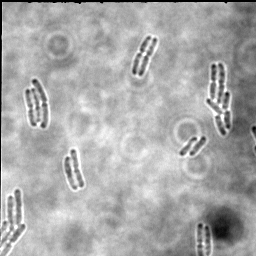Dividing: (31, 78, 51, 130), (136, 36, 160, 78), (131, 34, 152, 76), (69, 148, 86, 189), (63, 155, 80, 192), (22, 88, 37, 129), (30, 87, 43, 125), (195, 221, 205, 255)
Microcolony: (205, 60, 233, 137), (1, 187, 25, 255)
Rod: (178, 135, 199, 158), (188, 134, 208, 158), (203, 224, 213, 255)
